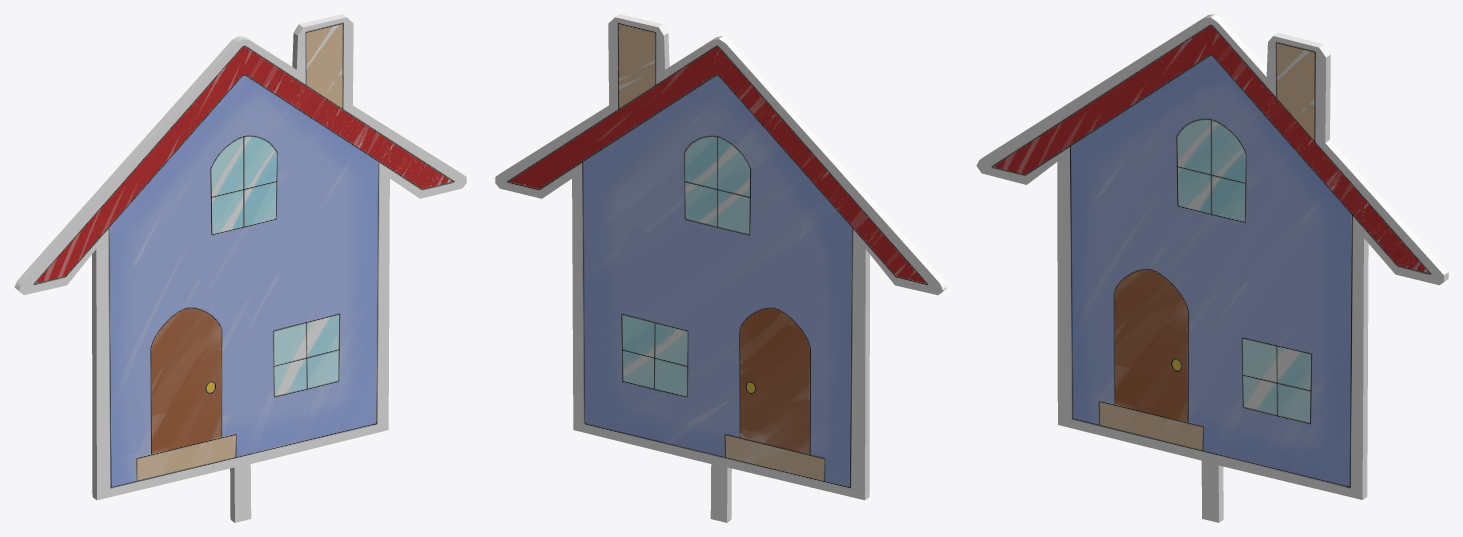
File: blueHouse.fbx
The picture shows the model from 3 angles, left to right: view 1: azimuth 30°, elevation 25°; view 2: azimuth 150°, elevation 25°; view 3: azimuth 330°, elevation 25°; orthographic projection. The views are drawn at different scales.
Parts seen in each view (by area): view 1: house4; view 2: house4; view 3: house4.
Part boxes in pixels (<box>): house4: <box>14,14,466,522</box>; house4: <box>495,14,947,522</box>; house4: <box>976,14,1448,522</box>.
Size of the model in its own units: 47.42 by 48.8 by 0.8179.
